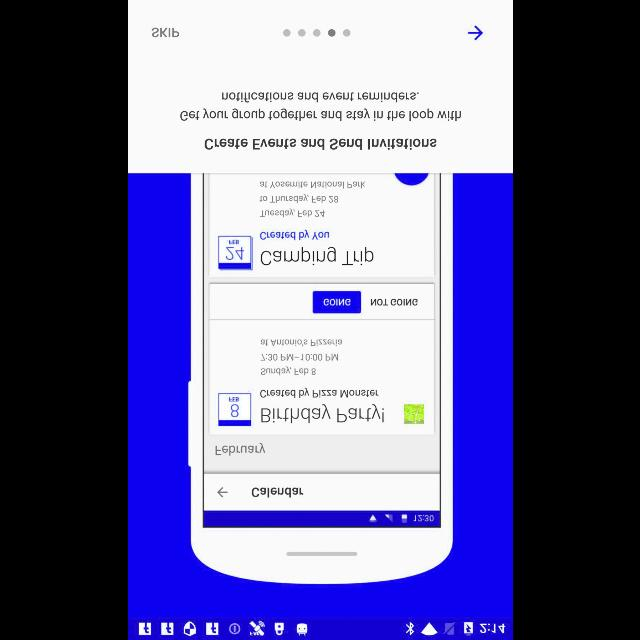icon: (467, 26, 483, 40)
image: (187, 173, 453, 584)
pageindicator: (282, 29, 350, 37)
text: (180, 92, 460, 121), (204, 138, 436, 150), (151, 28, 179, 36)
uppertaskbar: (128, 617, 512, 639)
